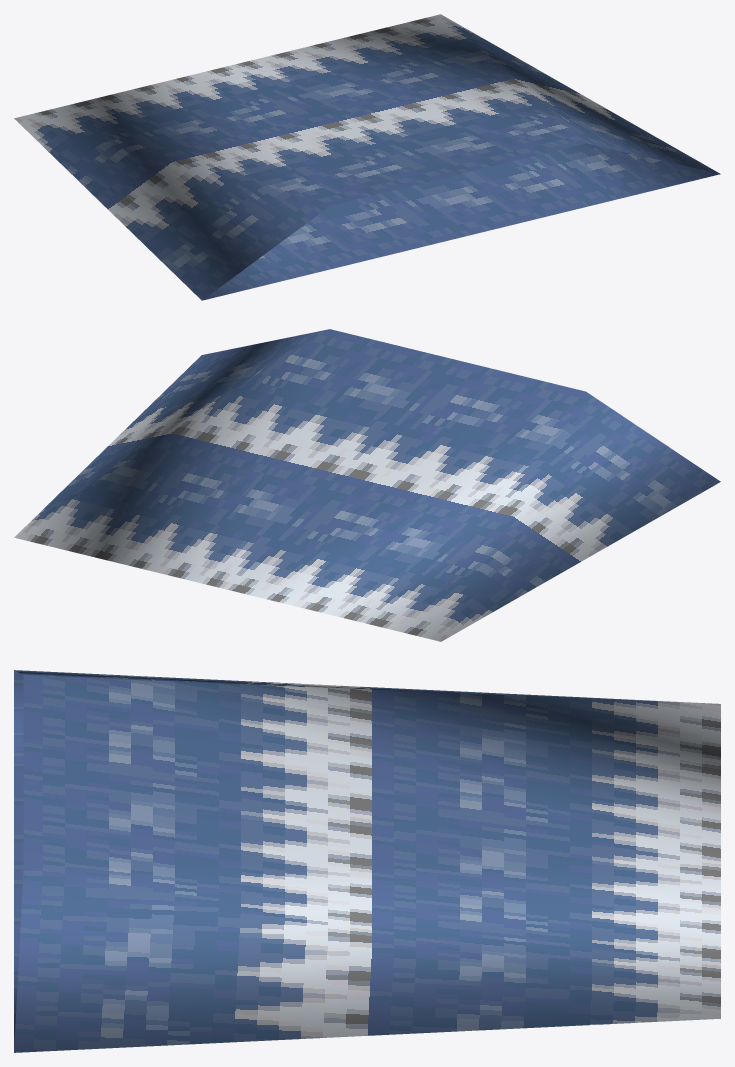
File: 2273skirt00_c.gltf
The picture shows the model from 3 angles, top to bottom: view 1: azimuth 30°, elevation 25°; view 2: azimuth 150°, elevation 25°; view 3: azimuth 270°, elevation 25°; orthographic projection. The views are drawn at different scales.
Visible parts, largest first — view 1: 2273skirt00_c; view 2: 2273skirt00_c; view 3: 2273skirt00_c.
Boxes of the visible parts, left/top/right/bottom form: 2273skirt00_c: left=14, top=14, right=720, bottom=300; 2273skirt00_c: left=14, top=329, right=720, bottom=641; 2273skirt00_c: left=14, top=670, right=720, bottom=1052.
Bounding box in the file's own units: 0.7896 × 0.0879 × 0.6162.
1 material, 1 textured.
